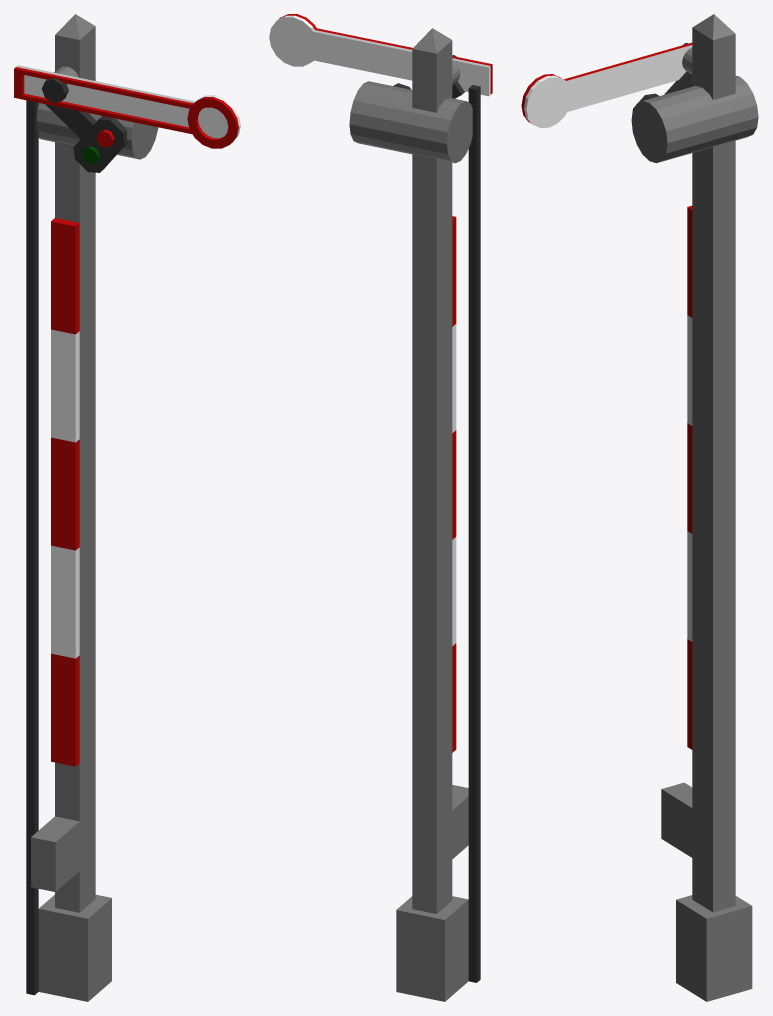
File: GMLID_6162422_289094_1279.dae
The picture shows the model from 3 angles, left to right: view 1: azimuth 30°, elevation 25°; view 2: azimuth 210°, elevation 25°; view 3: azimuth 270°, elevation 25°; orthographic projection.
Size of the model in its own units: 1.98 by 3.11 by 14.04.
